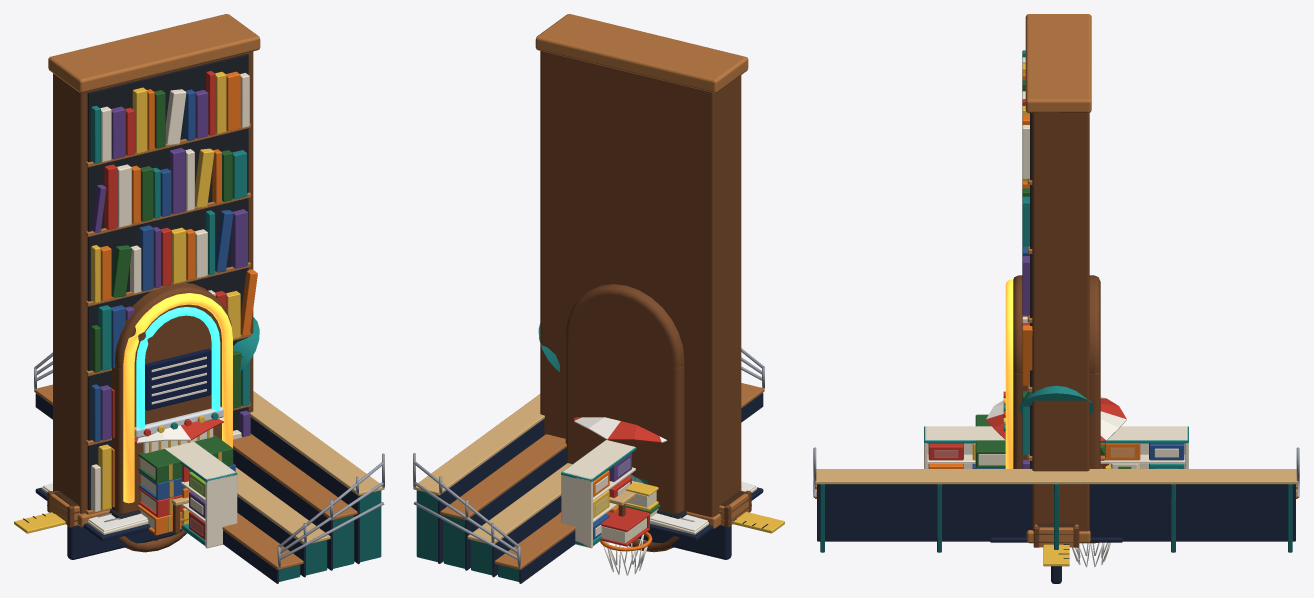
Rendered from rooms.glb.
The picture shows the model from 3 angles, left to right: view 1: azimuth 30°, elevation 25°; view 2: azimuth 150°, elevation 25°; view 3: azimuth 270°, elevation 25°; orthographic projection.
Visible parts, largest first — view 1: L_shelf, G_bleacher, D_jukebox, T_shelf, L_stairs, G_scoreboard, L_openbook, B_umbrellaRed, H_planter, L_ruler, A_window, L_lamp; view 2: L_shelf, G_bleacher, D_jukebox, T_shelf, L_stairs, G_scoreboard, L_openbook, B_umbrellaRed, G_hoop, H_planter, L_ruler; view 3: L_shelf, G_bleacher, T_shelf, D_jukebox, B_umbrellaRed, L_stairs, H_planter, L_lamp.
Boxes of the visible parts, x1=… form: L_shelf: x1=48, y1=14, x2=260, y2=527; G_bleacher: x1=34, y1=352, x2=384, y2=583; D_jukebox: x1=109, y1=283, x2=232, y2=519; T_shelf: x1=165, y1=441, x2=237, y2=548; L_stairs: x1=137, y1=435, x2=235, y2=535; G_scoreboard: x1=67, y1=525, x2=182, y2=559; L_openbook: x1=35, y1=483, x2=150, y2=541; B_umbrellaRed: x1=134, y1=418, x2=224, y2=443; H_planter: x1=47, y1=491, x2=80, y2=527; L_ruler: x1=14, y1=511, x2=65, y2=533; A_window: x1=119, y1=530, x2=186, y2=552; L_lamp: x1=233, y1=317, x2=259, y2=371; L_shelf: x1=535, y1=14, x2=748, y2=528; G_bleacher: x1=413, y1=348, x2=764, y2=583; D_jukebox: x1=565, y1=284, x2=686, y2=518; T_shelf: x1=561, y1=440, x2=636, y2=548; L_stairs: x1=559, y1=481, x2=660, y2=546; G_scoreboard: x1=638, y1=525, x2=731, y2=559; L_openbook: x1=650, y1=481, x2=763, y2=540; B_umbrellaRed: x1=574, y1=417, x2=667, y2=443; G_hoop: x1=600, y1=532, x2=652, y2=575; H_planter: x1=718, y1=490, x2=751, y2=527; L_ruler: x1=733, y1=512, x2=784, y2=533; L_shelf: x1=1022, y1=14, x2=1091, y2=543; G_bleacher: x1=813, y1=447, x2=1299, y2=552; T_shelf: x1=924, y1=426, x2=1188, y2=468; D_jukebox: x1=1003, y1=275, x2=1100, y2=468; B_umbrellaRed: x1=986, y1=396, x2=1126, y2=441; L_stairs: x1=975, y1=414, x2=1005, y2=468; H_planter: x1=1033, y1=523, x2=1079, y2=547; L_lamp: x1=1019, y1=385, x2=1093, y2=414.
Bounding box in the file's own units: 14 × 25.26 × 22.04.
